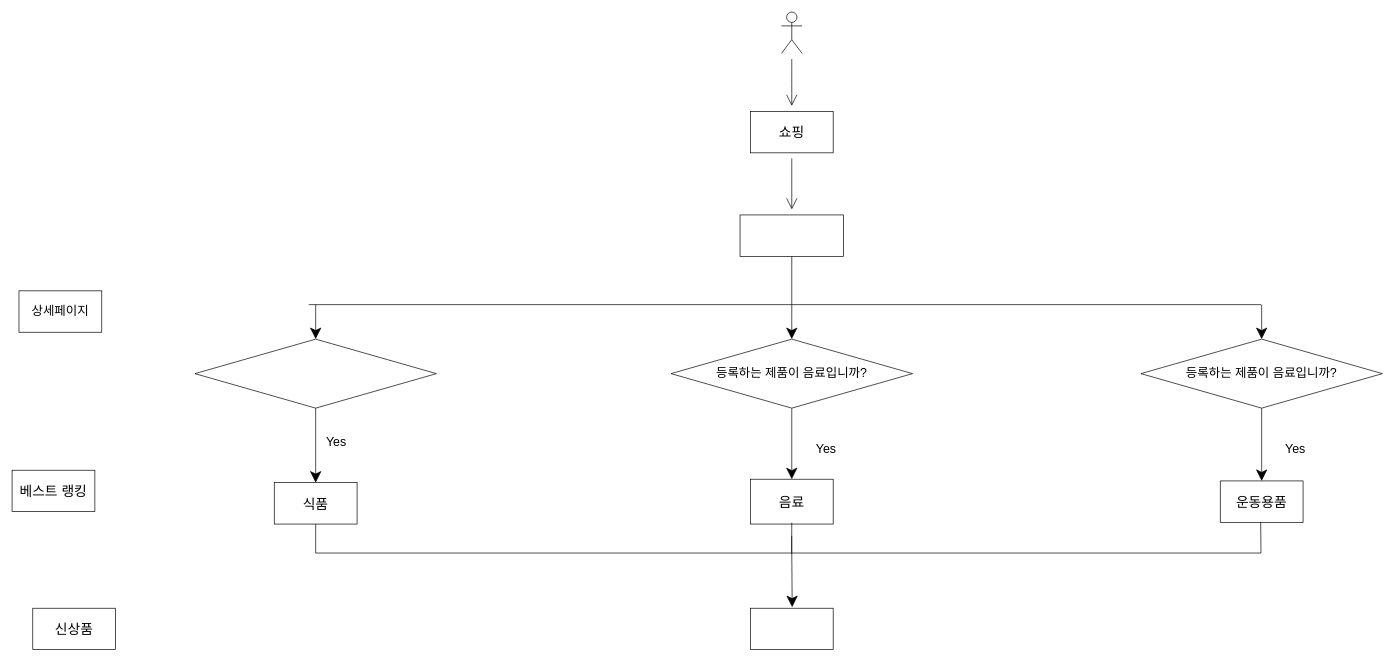
The diagram is 1394 pixels wide and 662 high, and some of its shapes have lost their labels. The shapes that lost their labels are listed below. From the top down, each one's centre as x and y in pixels, then its label:
At point (791, 32): "관리자".
At point (791, 235): "판매 상품 등록".
At point (315, 373): "등록하는 제품이 식품입니까?".
At point (791, 629): "등록완료".
